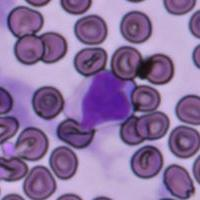M: (64, 70, 134, 133)
